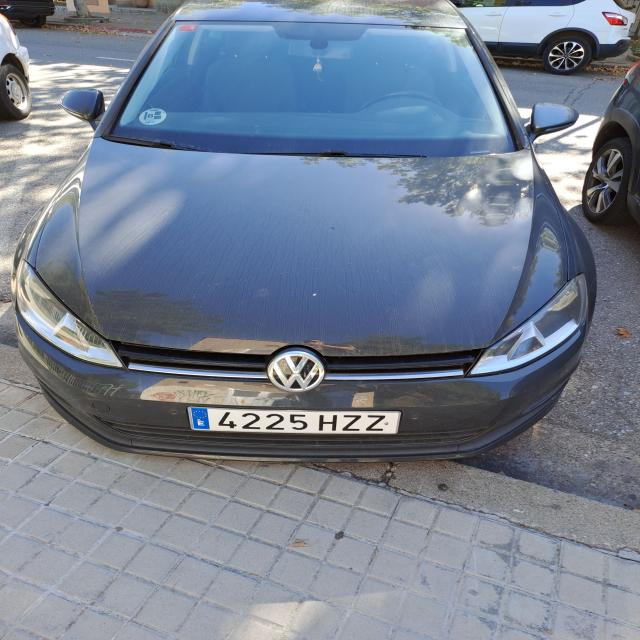license_plate-34Td: (187, 407, 400, 435)
